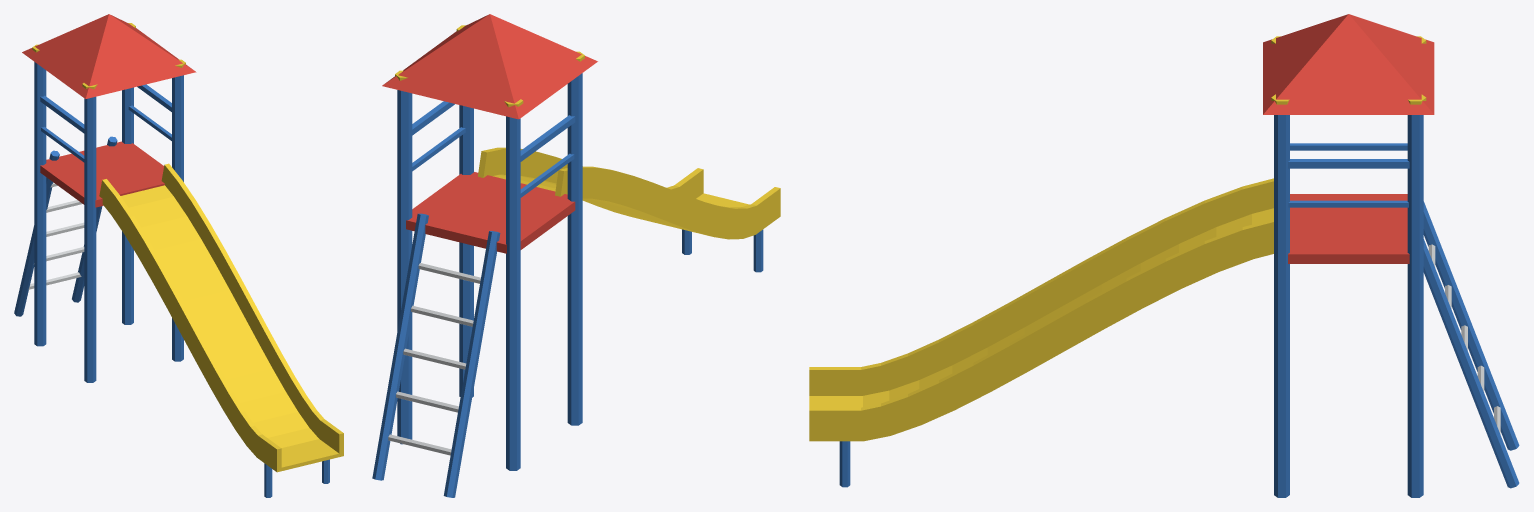
Rendered from slide.glb.
The picture shows the model from 3 angles, left to right: view 1: azimuth 30°, elevation 25°; view 2: azimuth 150°, elevation 25°; view 3: azimuth 270°, elevation 25°; orthographic projection. The views are drawn at different scales.
Parts seen in each view (by area): view 1: slide; view 2: slide; view 3: slide.
Part boxes in pixels (x1,y1,x2,y2): slide: (14, 14, 343, 497); slide: (372, 14, 780, 497); slide: (809, 14, 1519, 497).
Size of the model in its own units: 0.9617 by 2.81 by 3.98.
